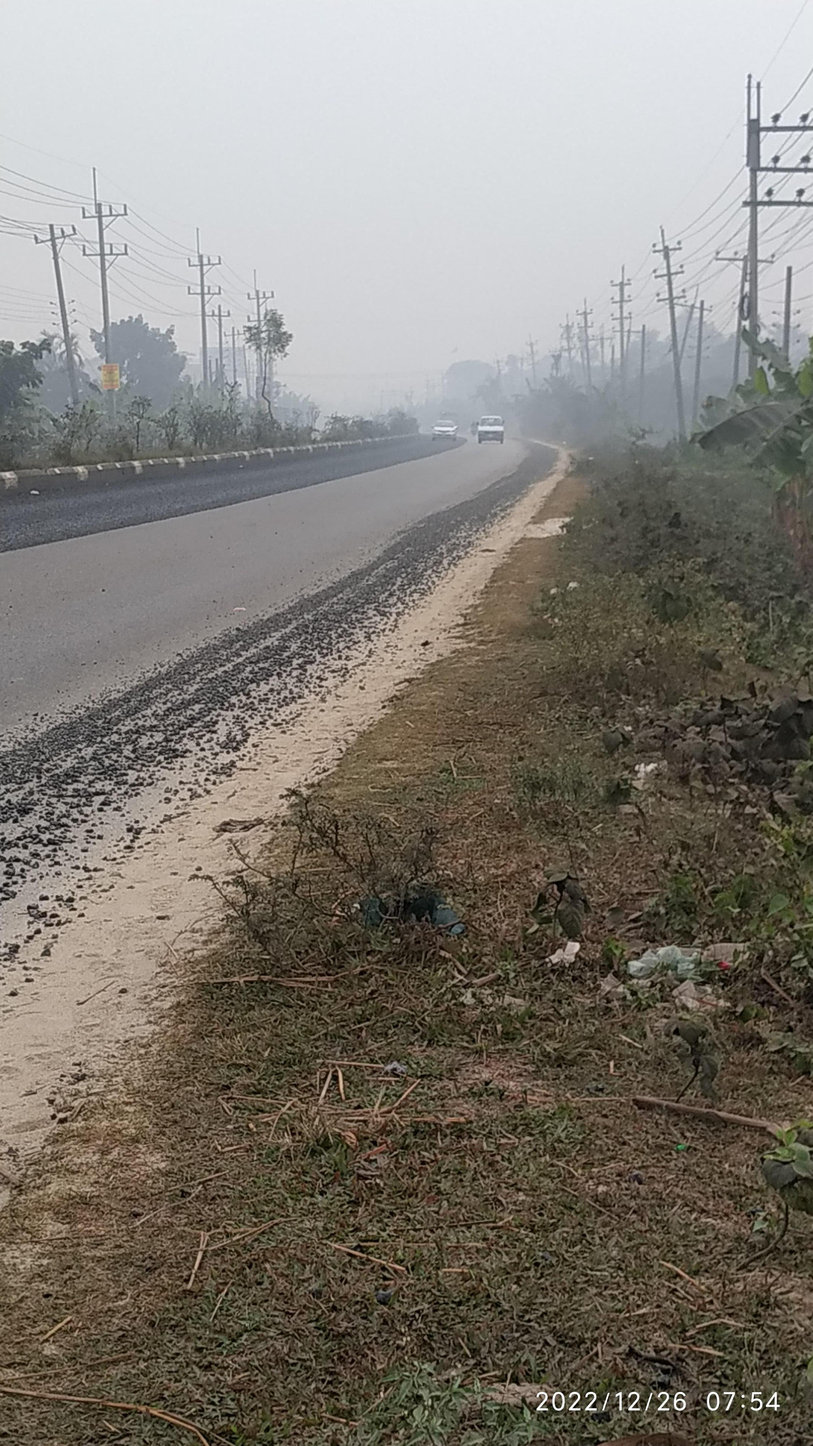Car: (470, 408, 522, 453), (423, 412, 464, 449)
